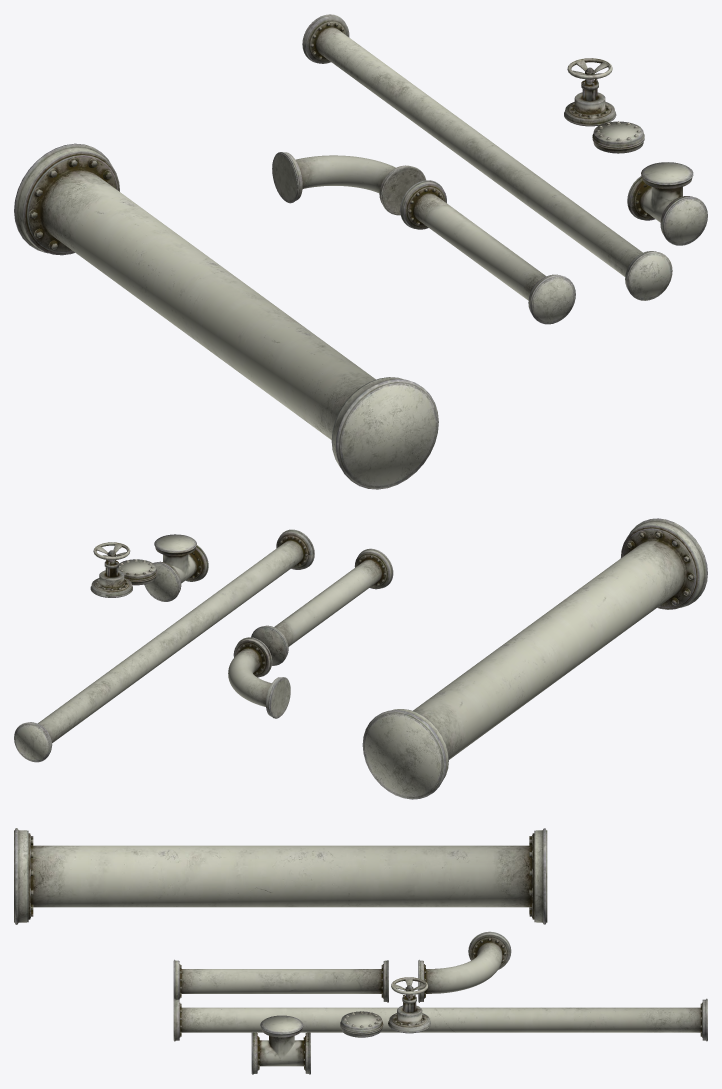
Rendered from industrial_pipes_pack.glb.
The picture shows the model from 3 angles, top to bottom: view 1: azimuth 30°, elevation 25°; view 2: azimuth 150°, elevation 25°; view 3: azimuth 270°, elevation 25°; orthographic projection. The views are drawn at different scales.
Visible parts, largest first — view 1: Cylinder.044_Pipe_0; view 2: Cylinder.044_Pipe_0; view 3: Cylinder.044_Pipe_0.
Part boxes in pixels (left/top/right/bottom): Cylinder.044_Pipe_0: left=14, top=14, right=707, bottom=489; Cylinder.044_Pipe_0: left=14, top=518, right=707, bottom=799; Cylinder.044_Pipe_0: left=14, top=828, right=707, bottom=1074.
Bounding box in the file's own units: 920 × 235 × 1306.
1 material, 1 textured.
